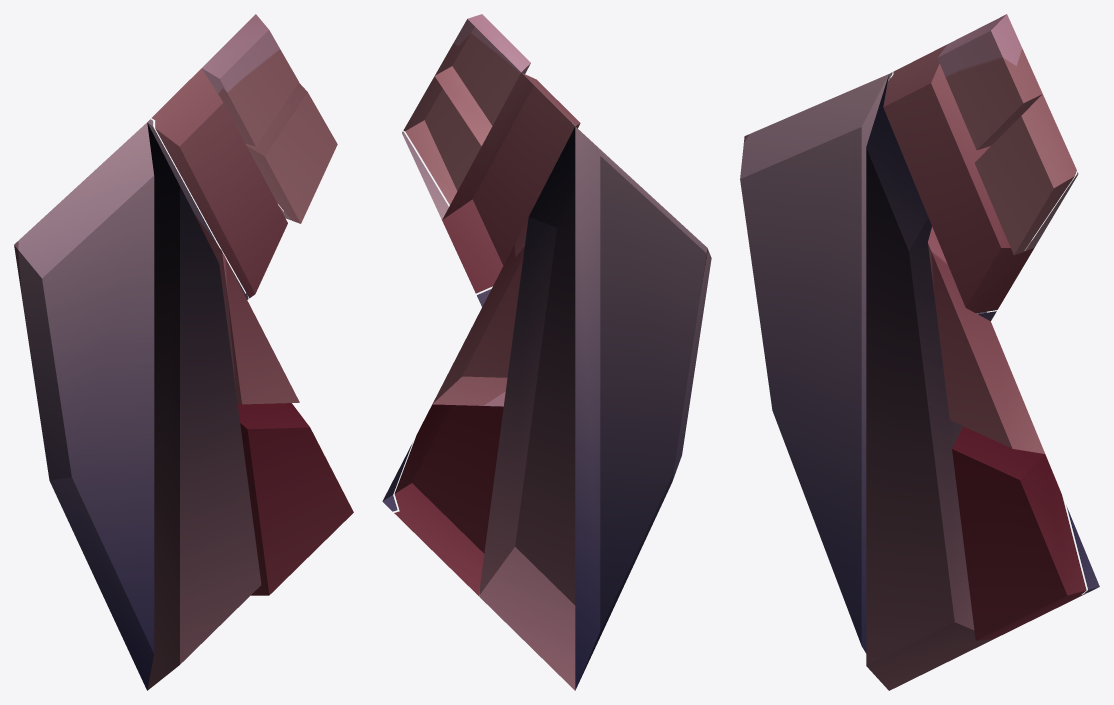
Rendered from Gema2.Prop.3.fbx.
3 renders of one model, left to right at view 1: azimuth 30°, elevation 25°; view 2: azimuth 150°, elevation 25°; view 3: azimuth 330°, elevation 25°, orthographic. The views are drawn at different scales.
Visible parts, largest first — view 1: discombobulated_mesh.001; view 2: discombobulated_mesh.001; view 3: discombobulated_mesh.001.
Boxes of the visible parts, box(x1,y1,x2,y2) form: discombobulated_mesh.001: box(14, 14, 353, 690); discombobulated_mesh.001: box(382, 14, 711, 690); discombobulated_mesh.001: box(740, 14, 1099, 690).
Bounding box in the file's own units: 169 × 320 × 23.94.
